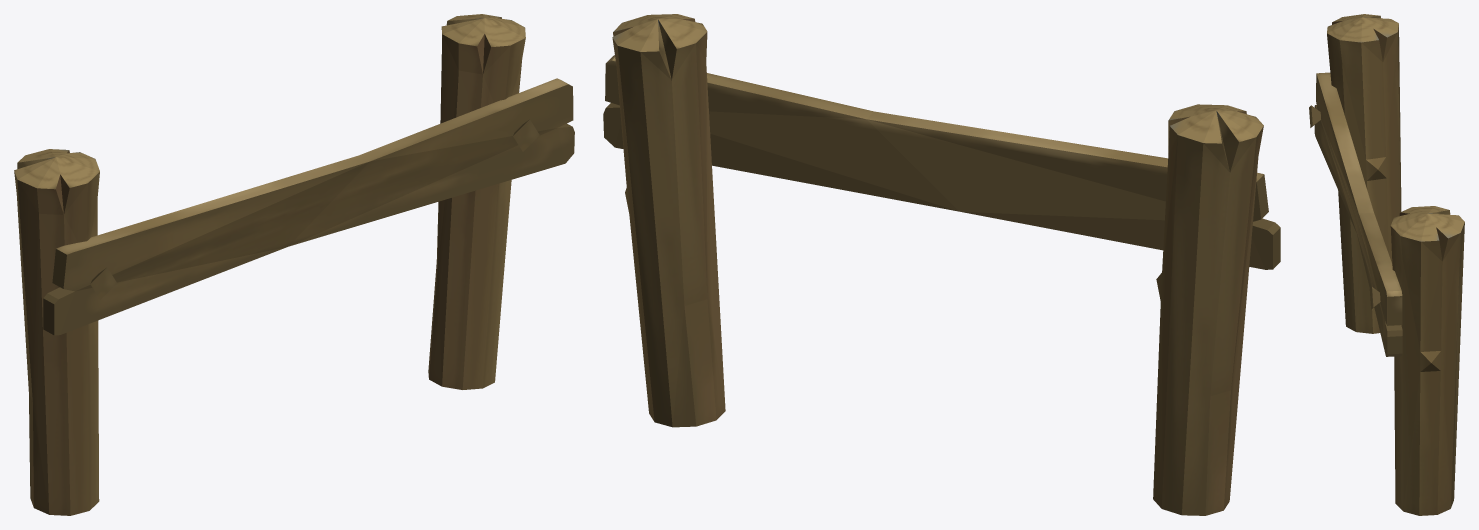
Rendered from yewai_zhalan_01.FBX.
The picture shows the model from 3 angles, left to right: view 1: azimuth 30°, elevation 25°; view 2: azimuth 150°, elevation 25°; view 3: azimuth 270°, elevation 25°; orthographic projection. The views are drawn at different scales.
Parts seen in each view (by area): view 1: yewai_zhalan_01; view 2: yewai_zhalan_01; view 3: yewai_zhalan_01.
Part boxes in pixels (<box>): yewai_zhalan_01: <box>14,14,574,515</box>; yewai_zhalan_01: <box>603,14,1280,515</box>; yewai_zhalan_01: <box>1309,14,1464,515</box>.
Size of the model in its own units: 122 by 72.74 by 33.93.
